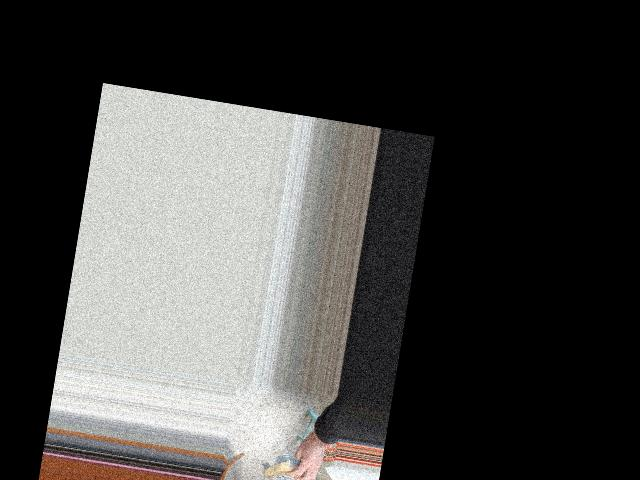cheese: (258, 450, 315, 480)
